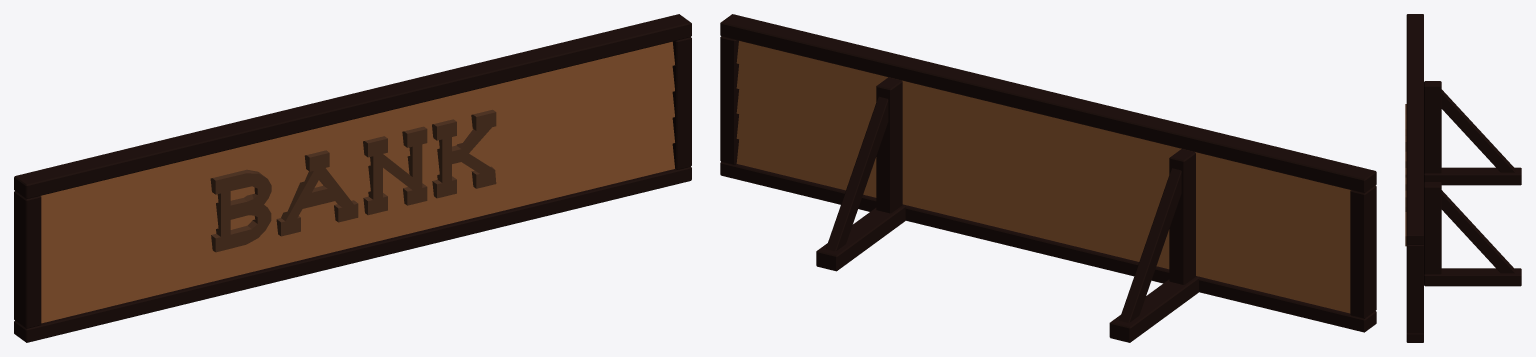
The model's file is ww_bank_sign_a.glb.
3 views of the same model, side by side, from view 1: azimuth 30°, elevation 25°; view 2: azimuth 150°, elevation 25°; view 3: azimuth 270°, elevation 25° (orthographic). The views are drawn at different scales.
Visible parts, largest first — view 1: Bank_Sign_A; view 2: Bank_Sign_A; view 3: Bank_Sign_A.
Part boxes in pixels (x1,y1,x2,y2): Bank_Sign_A: (14, 14, 691, 342); Bank_Sign_A: (720, 14, 1376, 342); Bank_Sign_A: (1405, 14, 1521, 342).
Bounding box in the file's own units: 10.56 × 2.4 × 2.34.
